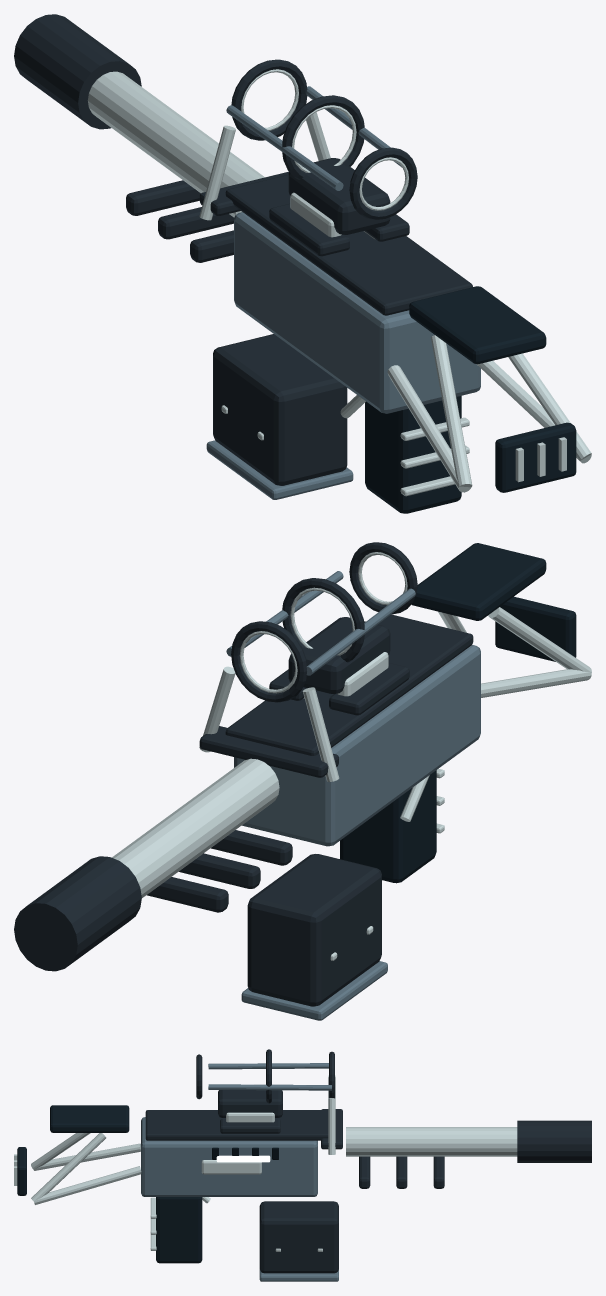
File: weapon-8.glb
3 views of the same model, one above another, from view 1: azimuth 30°, elevation 25°; view 2: azimuth 150°, elevation 25°; view 3: azimuth 270°, elevation 25° (orthographic). The views are drawn at different scales.
Visible parts, largest first — view 1: body-dark, body-light, body-rubber, feed-dark, body-trim, barrel-assembly-trim, barrel-assembly-dark, feed-light; view 2: body-dark, body-light, feed-dark, body-rubber, barrel-assembly-dark, body-trim, barrel-assembly-trim, feed-light; view 3: body-light, body-dark, body-rubber, feed-dark, barrel-assembly-trim, body-trim, barrel-assembly-dark, bolt-trim, feed-light, body-glow.
Boxes of the visible parts, left/top/right/bottom form: body-dark: left=126, top=59, right=472, bottom=315; body-light: left=226, top=86, right=480, bottom=413; body-rubber: left=365, top=286, right=576, bottom=513; feed-dark: left=213, top=334, right=347, bottom=485; body-trim: left=199, top=69, right=591, bottom=496; barrel-assembly-trim: left=87, top=71, right=264, bottom=217; barrel-assembly-dark: left=14, top=14, right=141, bottom=129; feed-light: left=206, top=440, right=353, bottom=499; body-dark: left=147, top=542, right=473, bottom=912; body-light: left=226, top=571, right=480, bottom=846; feed-dark: left=247, top=854, right=381, bottom=1006; body-rubber: left=340, top=543, right=576, bottom=883; barrel-assembly-dark: left=14, top=856, right=141, bottom=971; body-trim: left=199, top=552, right=591, bottom=833; barrel-assembly-trim: left=112, top=758, right=279, bottom=897; feed-light: left=241, top=961, right=387, bottom=1020; body-light: left=141, top=1063, right=331, bottom=1196; body-dark: left=145, top=1049, right=444, bottom=1188; body-rubber: left=17, top=1105, right=202, bottom=1263; feed-dark: left=259, top=1201, right=338, bottom=1273; barrel-assembly-trim: left=346, top=1127, right=517, bottom=1156; body-trim: left=14, top=1075, right=335, bottom=1250; barrel-assembly-dark: left=517, top=1120, right=591, bottom=1162; bolt-trim: left=201, top=1160, right=261, bottom=1174; feed-light: left=259, top=1269, right=338, bottom=1281; body-glow: left=216, top=1155, right=270, bottom=1162.
Bounding box in the file's own units: 0.1993 × 0.531 × 1.24.
